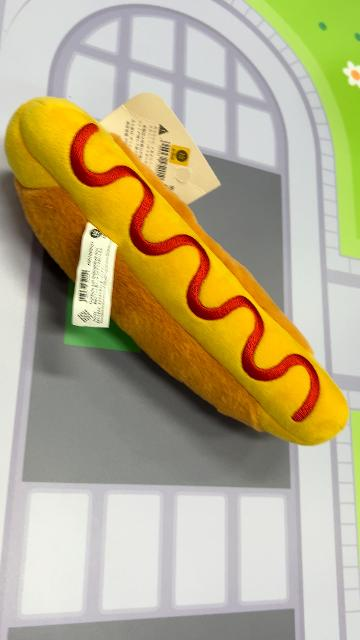hotdog: (6, 95, 351, 447)
